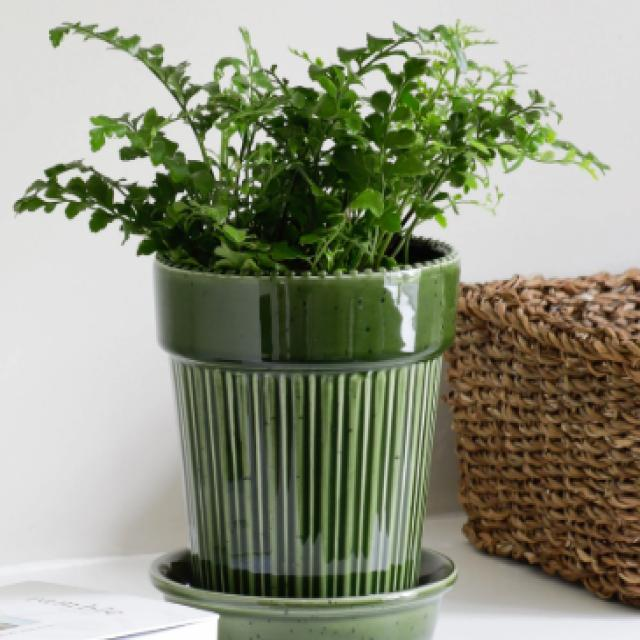Plant Pot: (141, 226, 483, 640)
